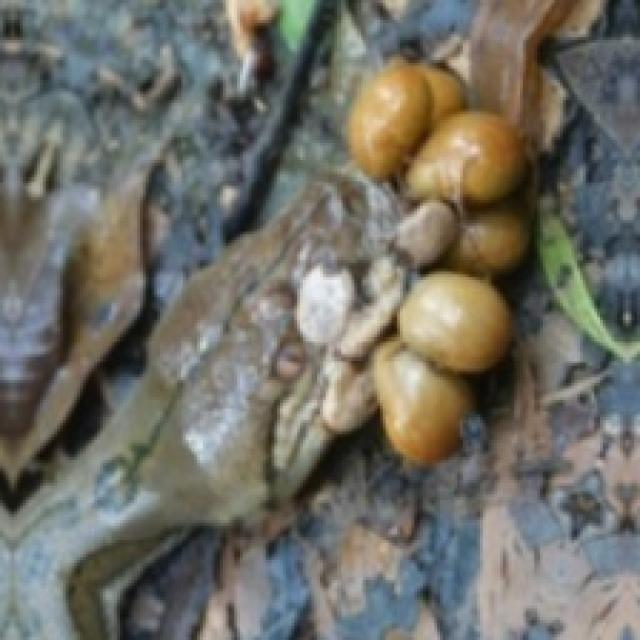reticulated python: (0, 0, 637, 637), (343, 54, 529, 266), (369, 260, 514, 466)
